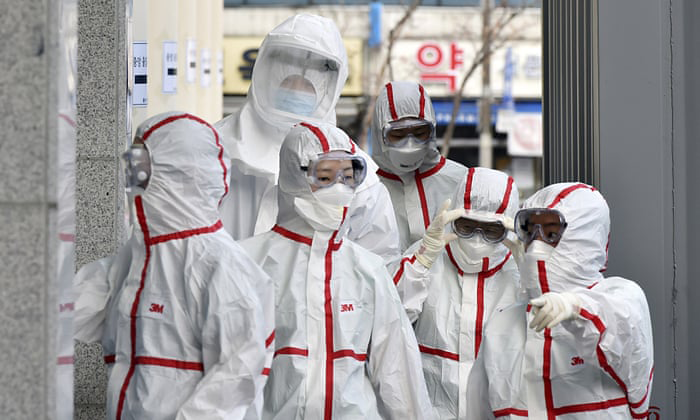Coverall: (1, 294, 191, 420), (293, 372, 592, 420), (666, 223, 700, 420)
Gloves: (417, 411, 493, 420)
with_mask: (386, 282, 477, 378)
